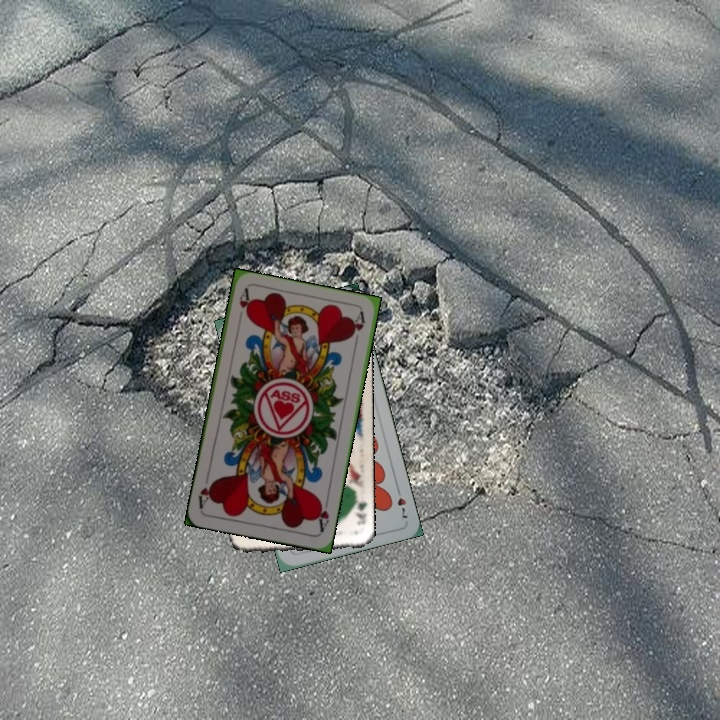GK: (350, 493, 370, 527)
H7: (392, 483, 411, 521)
HA: (312, 494, 332, 535), (235, 286, 252, 319)
